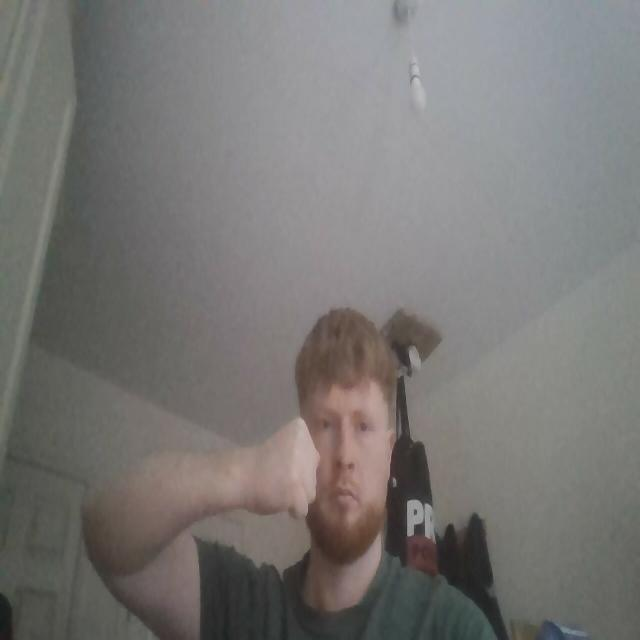rock: (242, 414, 322, 526)
